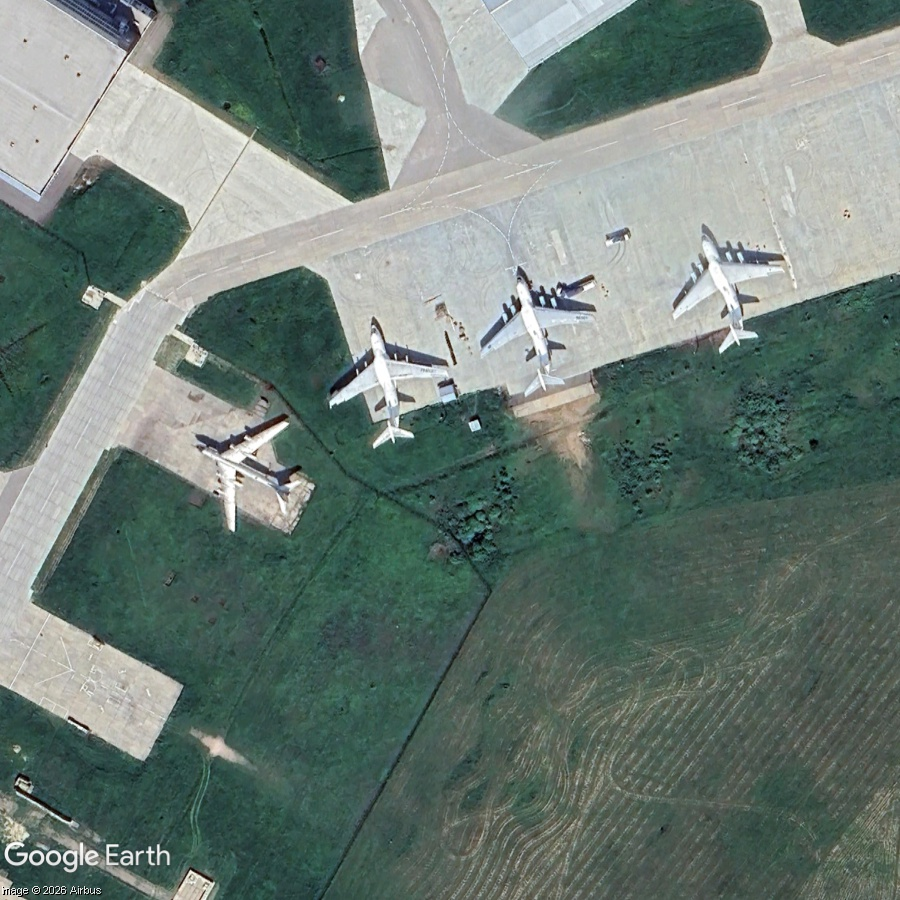Máy bay ném bom: (162, 385, 327, 556)
Máy bay vận tải/Tiếp dầu: (645, 206, 806, 369), (458, 249, 614, 408), (310, 304, 466, 462)
